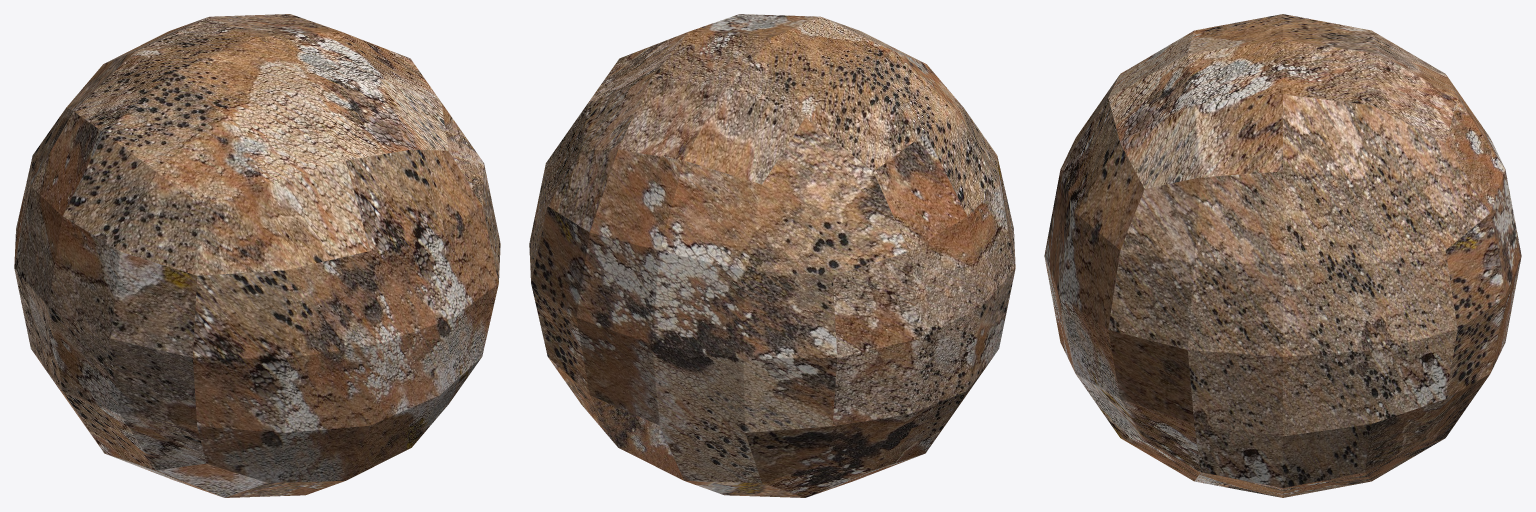
File: projectile.obj
3 views of the same model, side by side, from view 1: azimuth 30°, elevation 25°; view 2: azimuth 150°, elevation 25°; view 3: azimuth 270°, elevation 25° (orthographic).
Parts seen in each view (by area): view 1: Cube; view 2: Cube; view 3: Cube.
Boxes of the visible parts, x1,y1,x2,y2 form: Cube: (14, 14, 500, 497); Cube: (529, 14, 1015, 497); Cube: (1044, 14, 1521, 497).
Size of the model in its own units: 1.76 by 1.76 by 1.76.
1 material, 1 textured.
